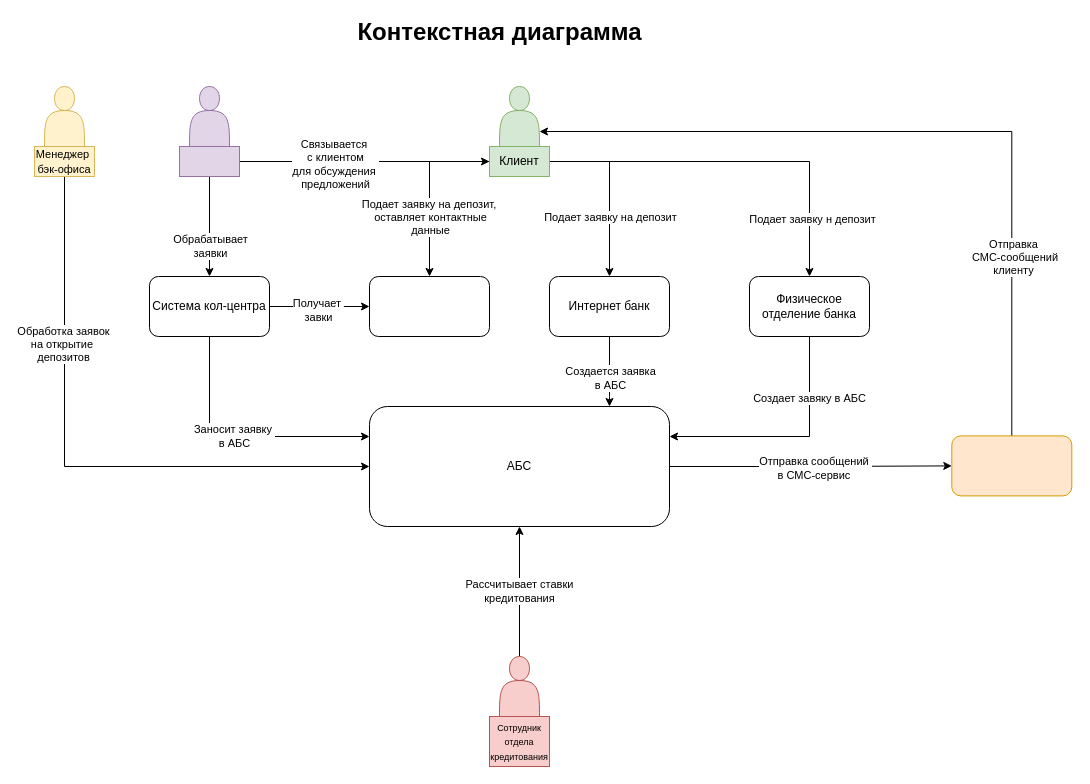
The diagram is 1090 pixels wide and 784 high, and some of its shapes have lost their labels. Here are the shapes that lost their labels. From the top down, the centre of each, then its label:
At point 209,161: "Менеджер кол-центра".
At point 429,306: "Сайт банка".
At point 1011,465: "СМС-шлюз".
